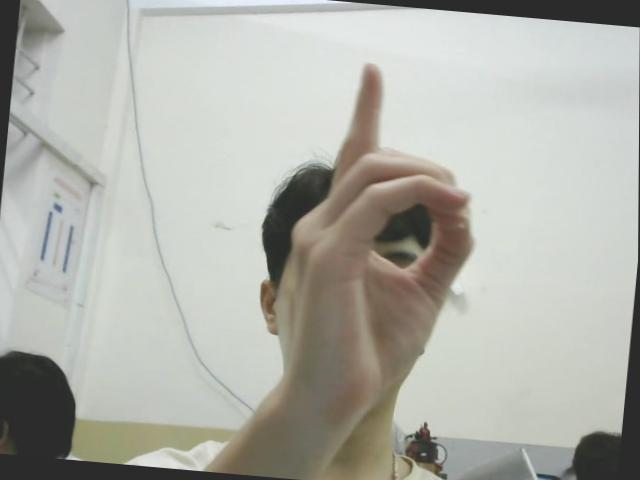D: (274, 55, 491, 418)
